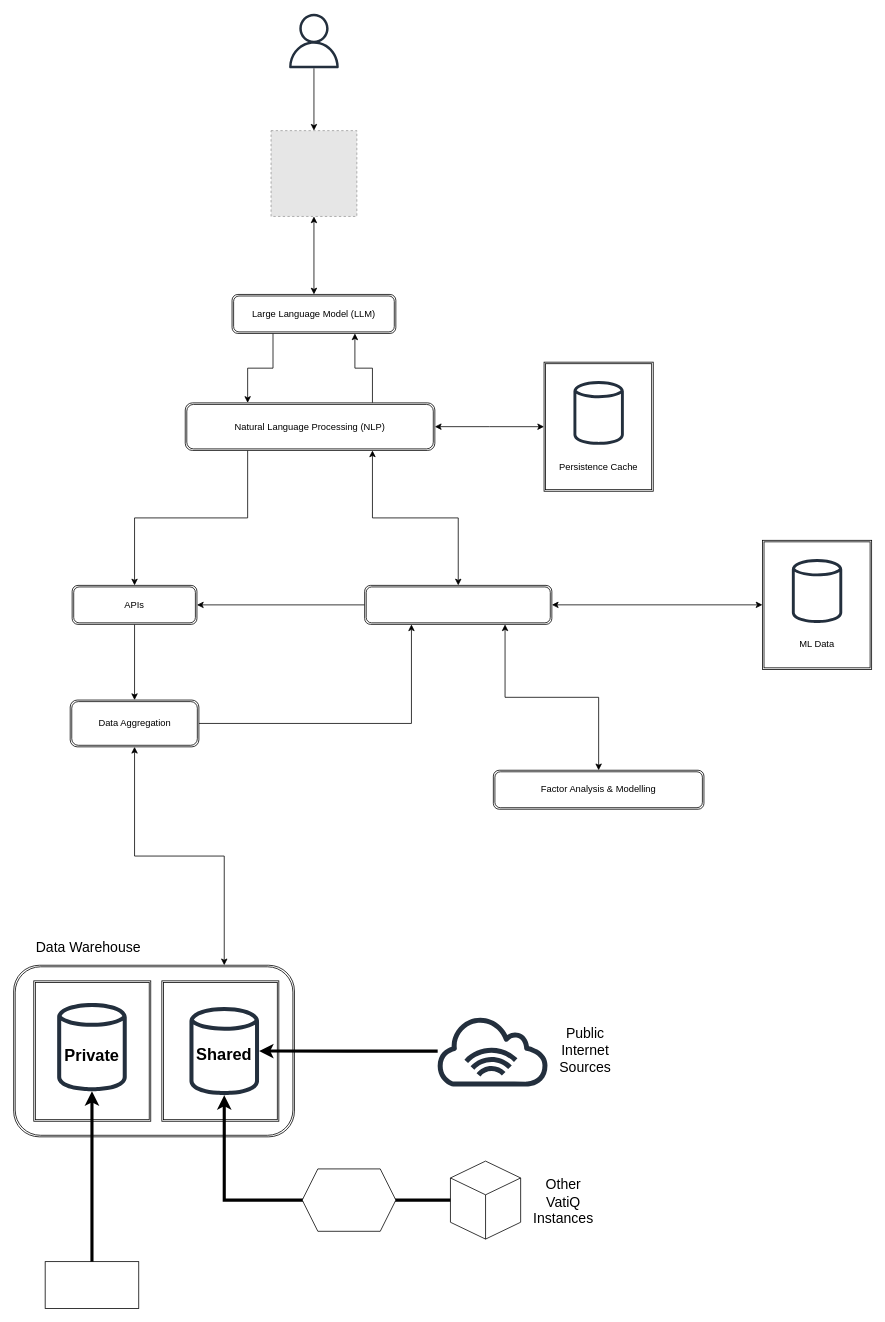
Some shapes in this 885 by 1322 pixel diagram are drawn without their labels. Grey dashed boxes stand in for pictures. Here are the shapes that lost their labels. From the top down, the centre of each, then its label:
At (x=458, y=604): "Deep Learning Model".
At (x=348, y=1199): "Anonymisation Process".
At (x=91, y=1284): "Client Data Sources".
